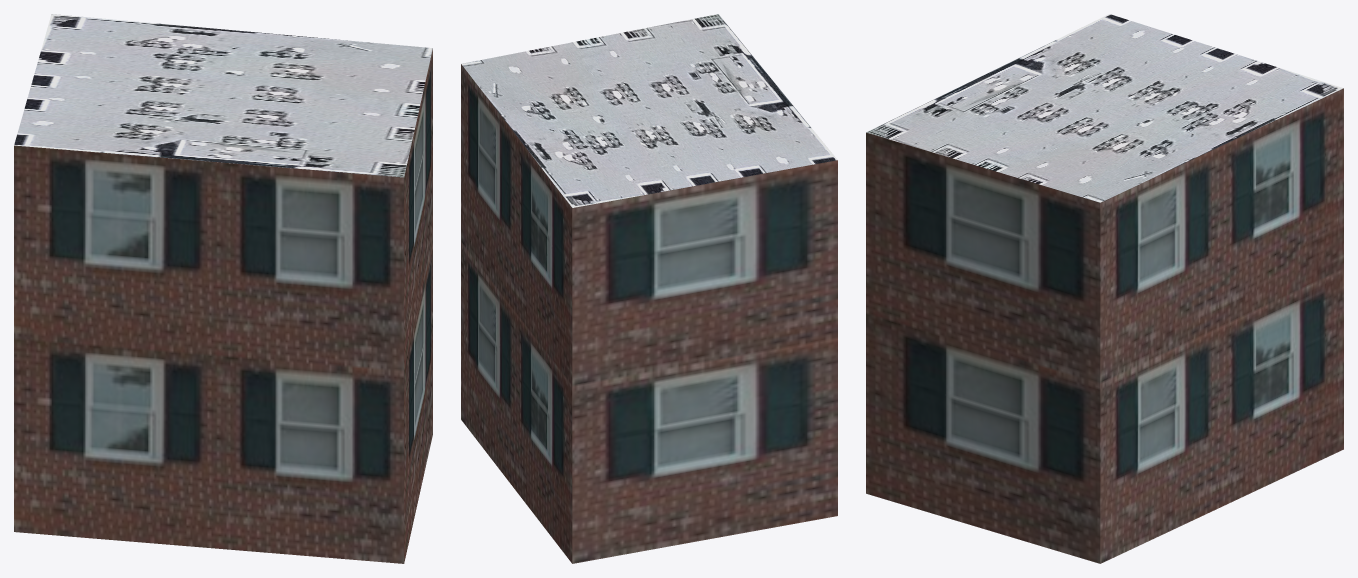
File: ResTex__4603.fbx
The picture shows the model from 3 angles, left to right: view 1: azimuth 30°, elevation 25°; view 2: azimuth 150°, elevation 25°; view 3: azimuth 270°, elevation 25°; orthographic projection. The views are drawn at different scales.
Parts seen in each view (by area): view 1: CityEngineMaterial_14_m, CityEngineMaterial_4_m; view 2: CityEngineMaterial_14_m, CityEngineMaterial_4_m; view 3: CityEngineMaterial_14_m, CityEngineMaterial_4_m.
Boxes of the visible parts, x1,y1,x2,y2 form: CityEngineMaterial_14_m: (14,49,432,563); CityEngineMaterial_4_m: (14,14,432,177); CityEngineMaterial_14_m: (461,64,837,563); CityEngineMaterial_4_m: (461,14,837,207); CityEngineMaterial_14_m: (866,88,1343,563); CityEngineMaterial_4_m: (866,14,1343,202).
Size of the model in its own units: 6.73 by 6 by 7.19.
2 materials, 2 textured.
